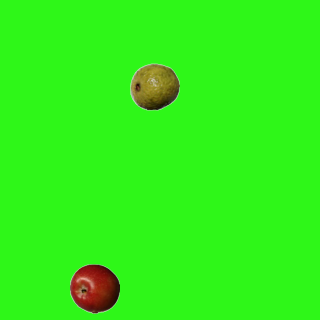Apple Braeburn: (69, 263, 119, 313)
Guava: (129, 61, 179, 111)
